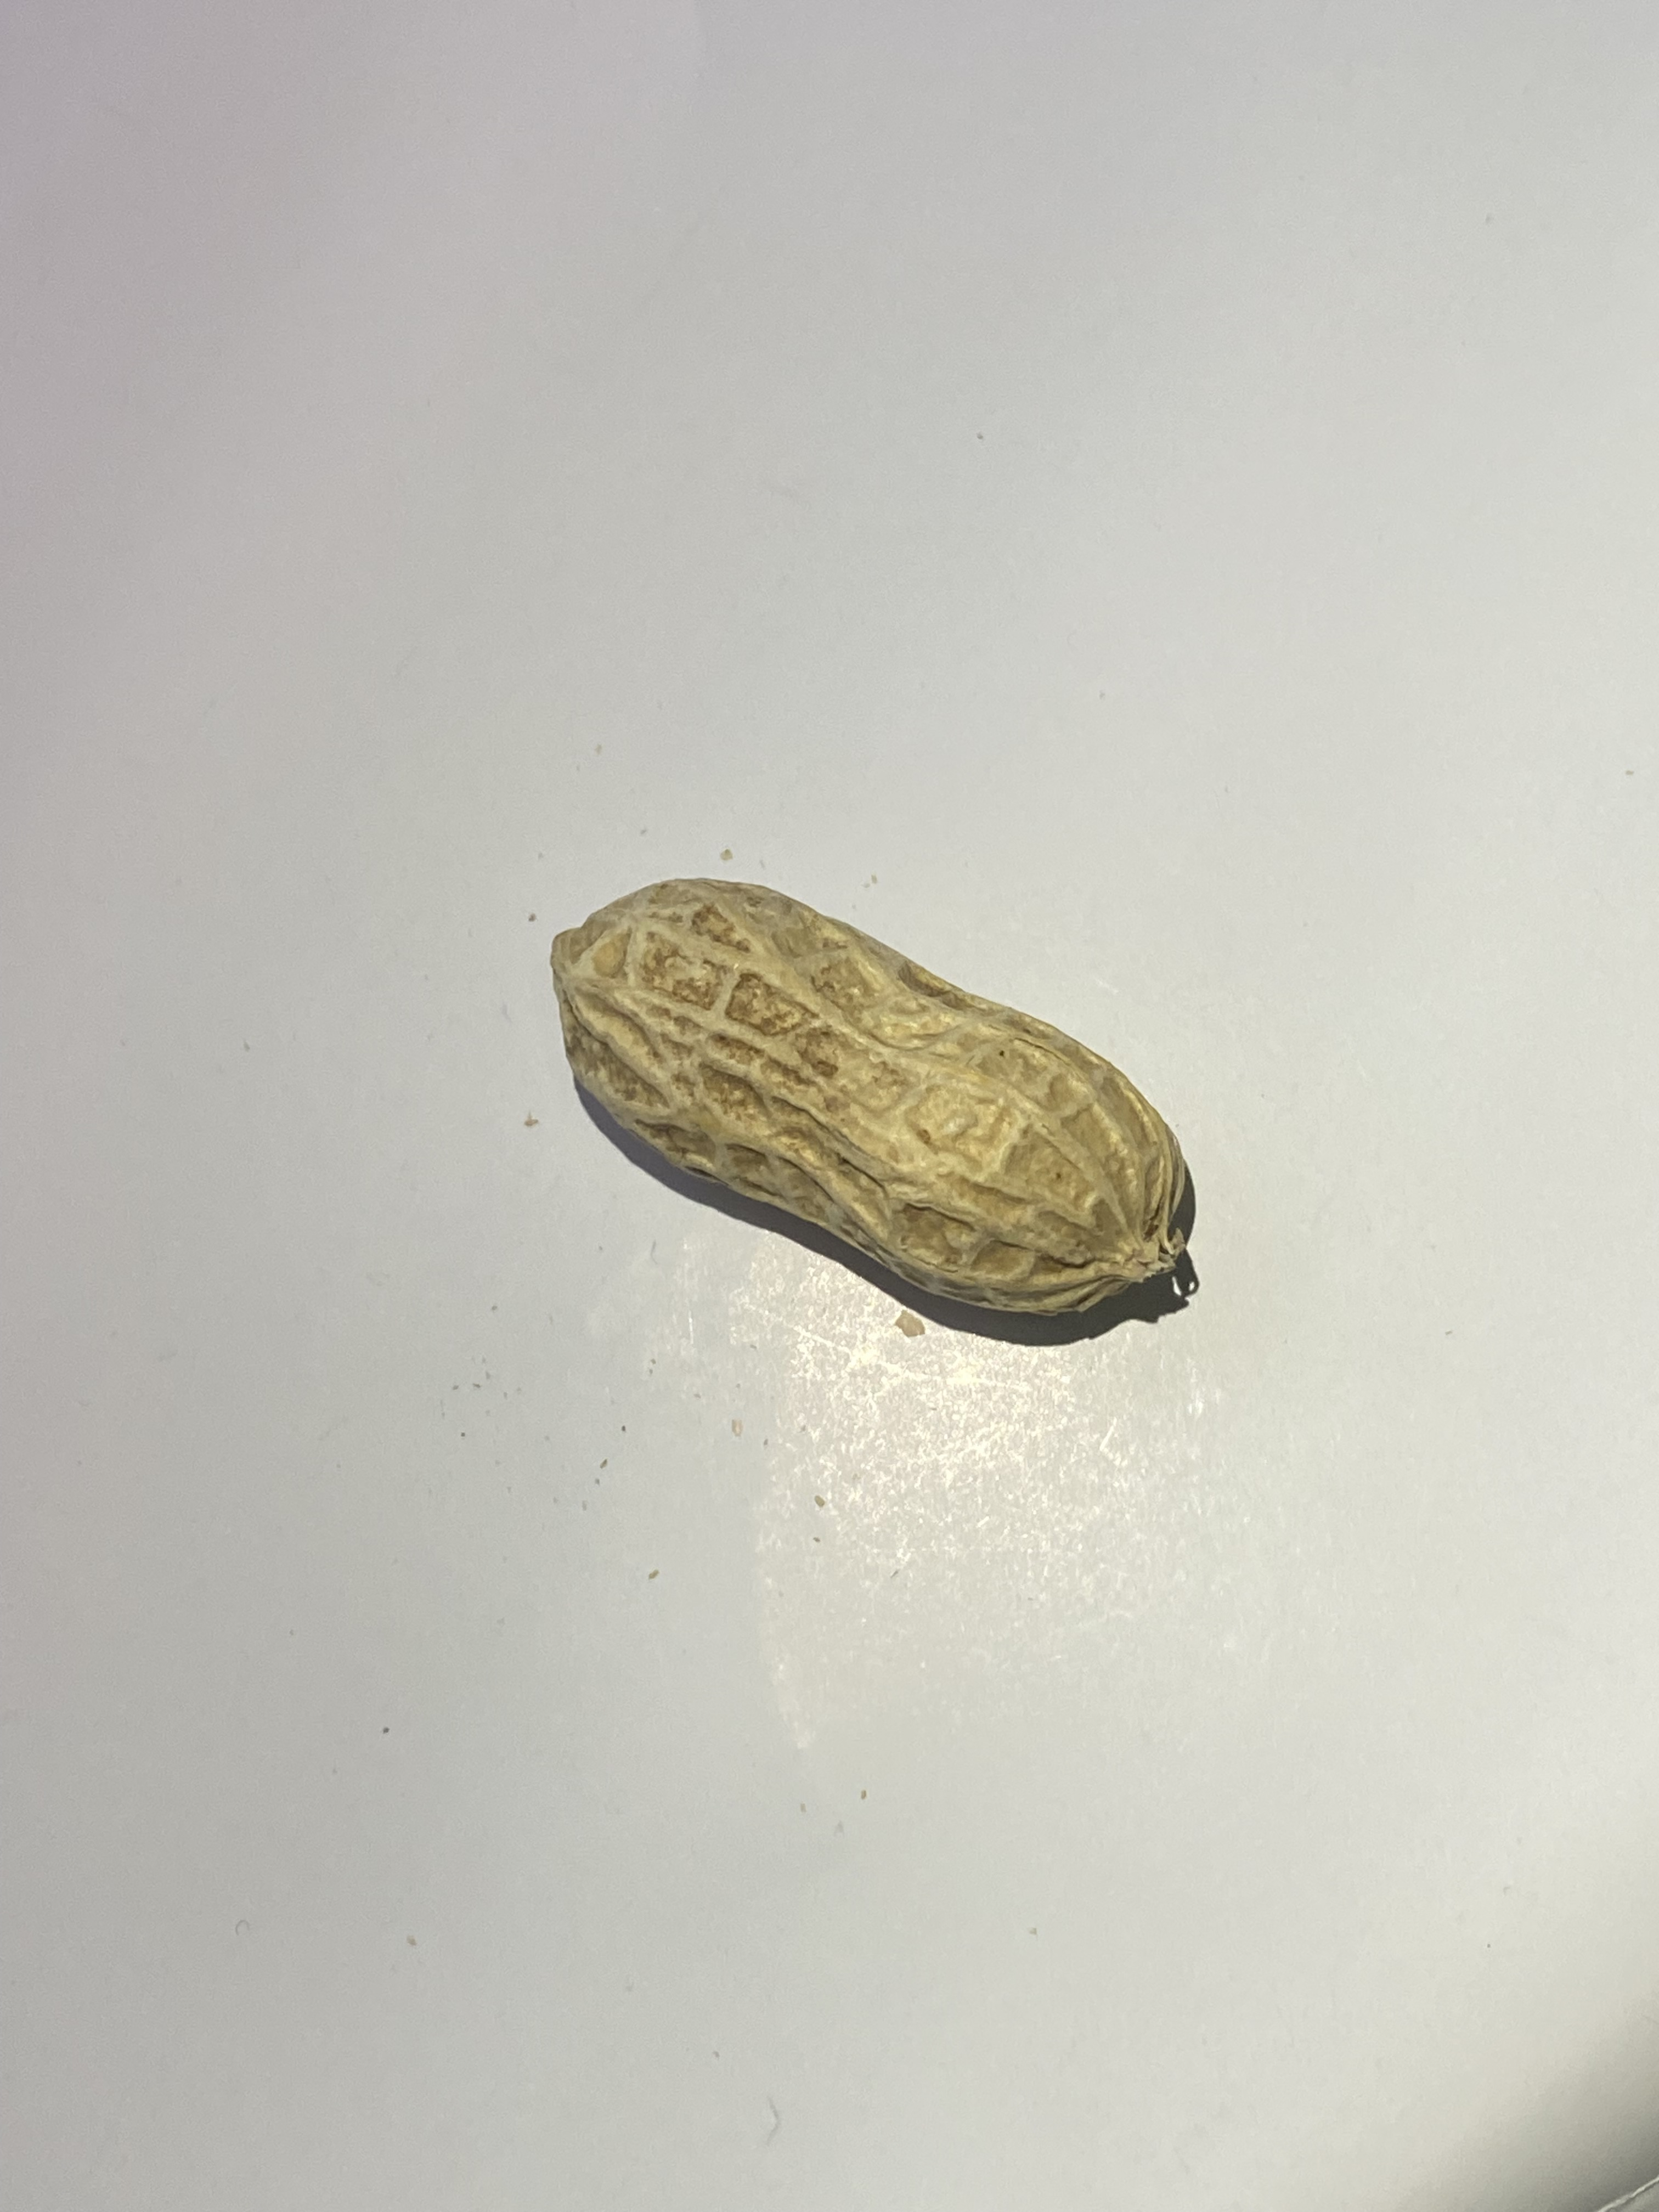kacang2: (477, 866, 1222, 1322)
